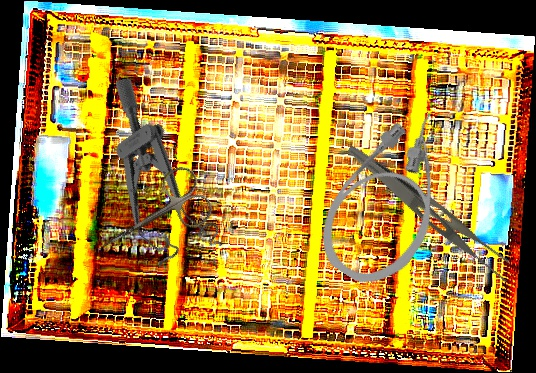Cannula: (303, 95, 484, 300)
Dressing Forceps: (334, 143, 522, 286)
Iris Scissors: (86, 161, 218, 273)
Speculum: (58, 74, 239, 283)
